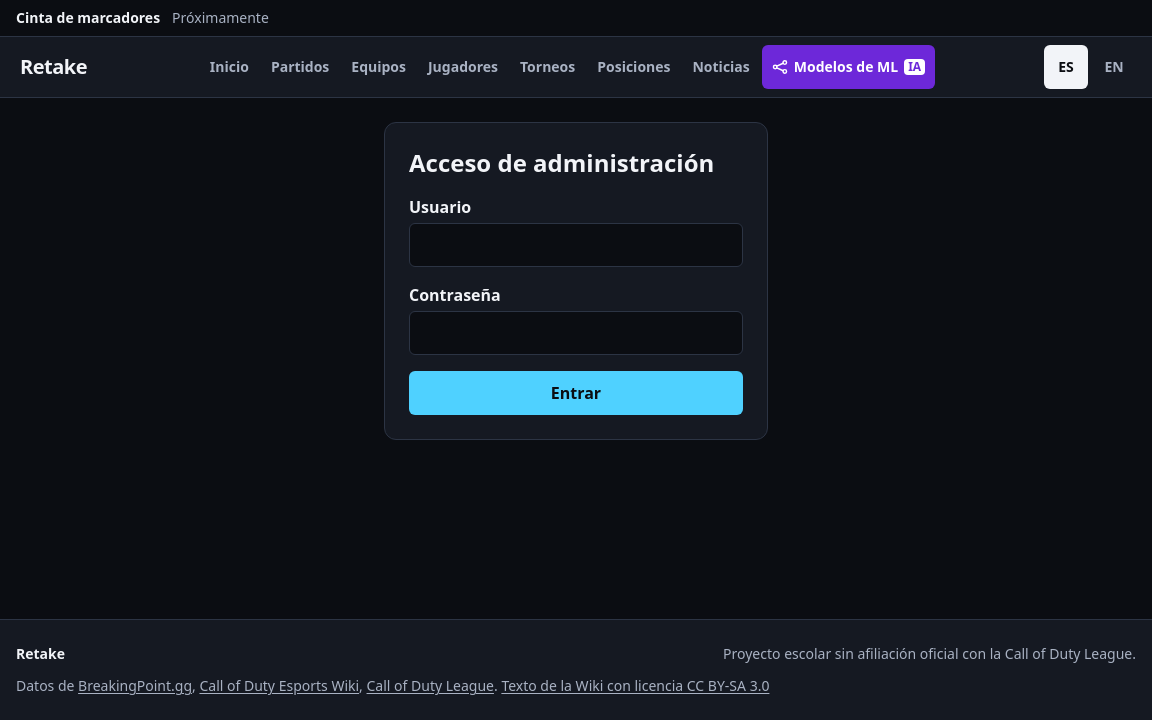
it: página de administración (T-077 a T-079) › credenciales incorrectas: un único mensaje, sin decir cuál falla
The width and height of the screenshot is (1152, 720).
Type "nadie" into the field labelled "Usuario" at [576, 245], box [409,223,743,267]
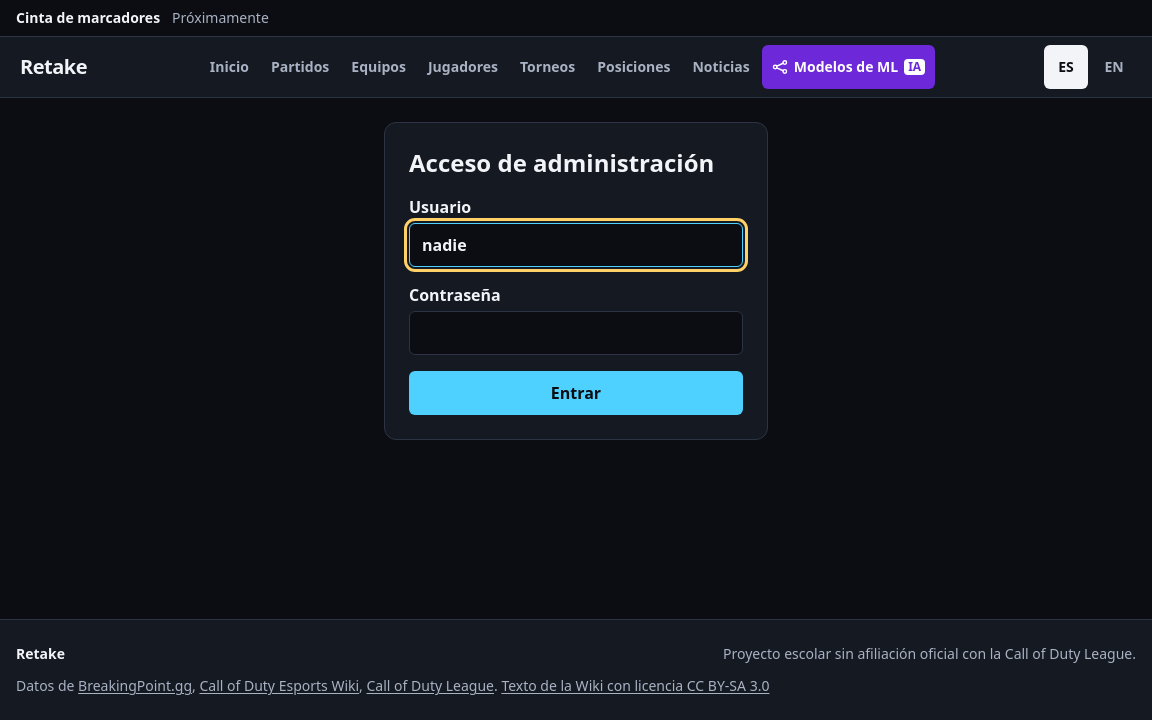
Type "mala" into the password field labelled "Contraseña" at [576, 333], box [409,311,743,355]
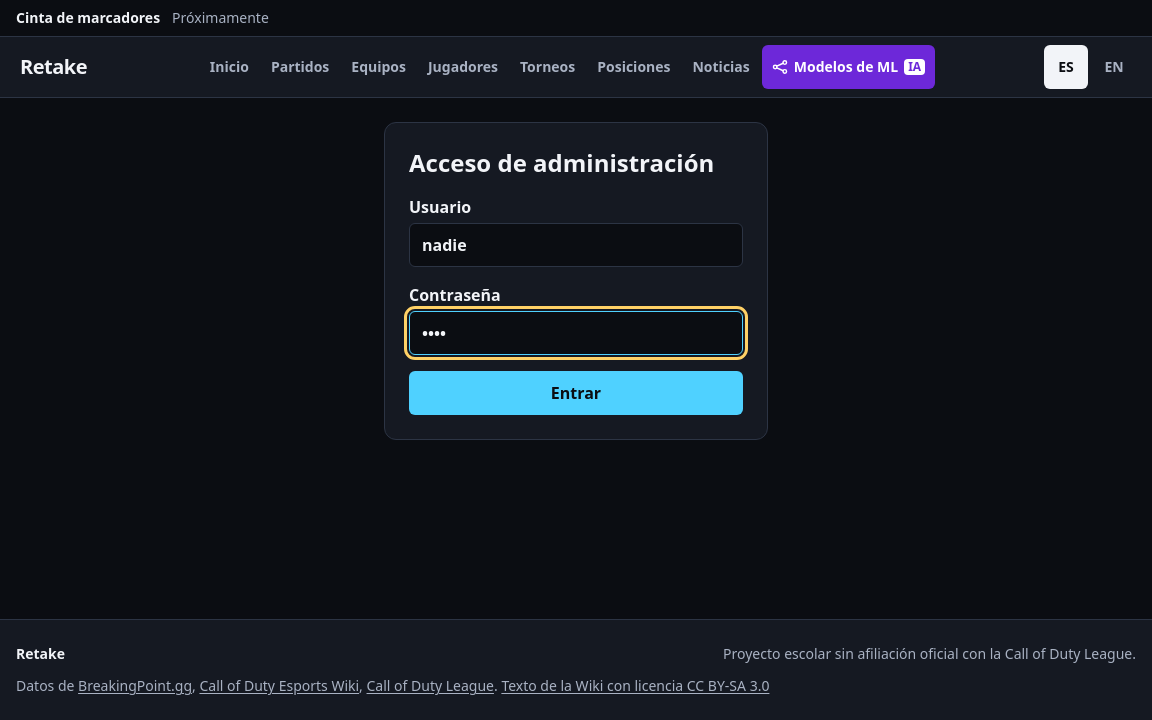
Click the button "Entrar" at [576, 393], box [409,371,743,415]
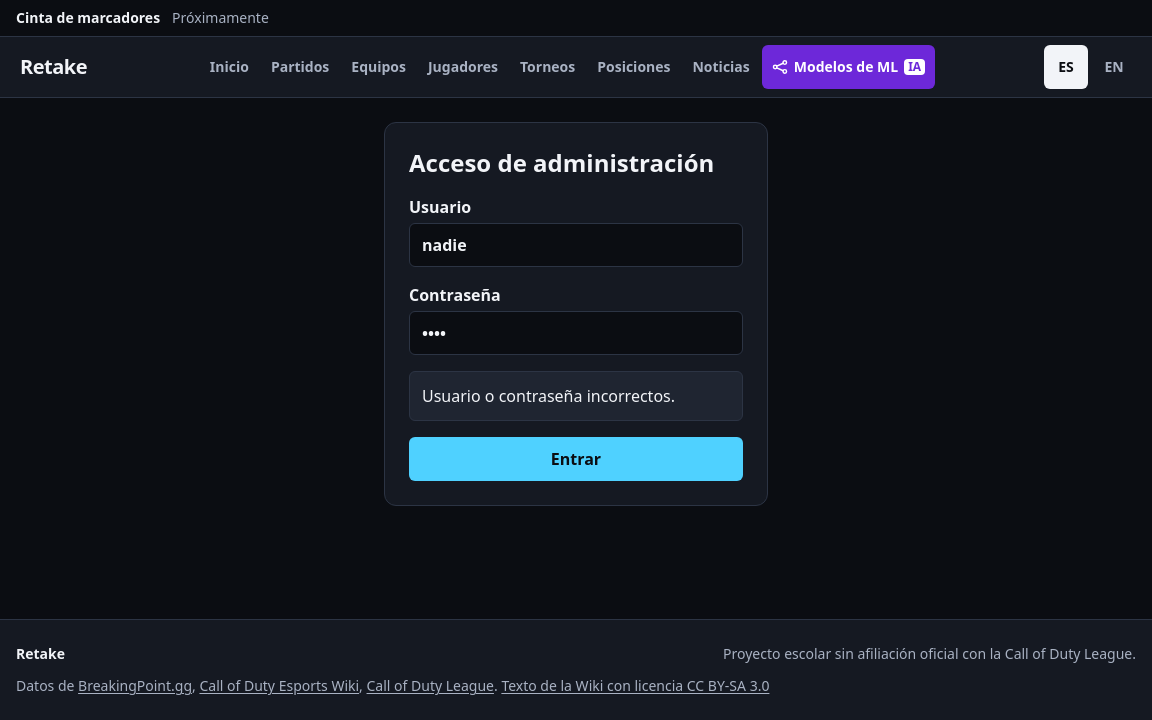
Expected: the message reads "Usuario o contraseña incorrectos.", [422,385,675,407]
